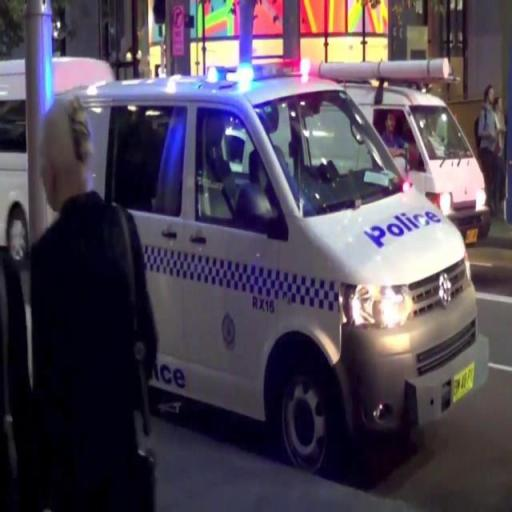Ambulance: (78, 60, 492, 462)
